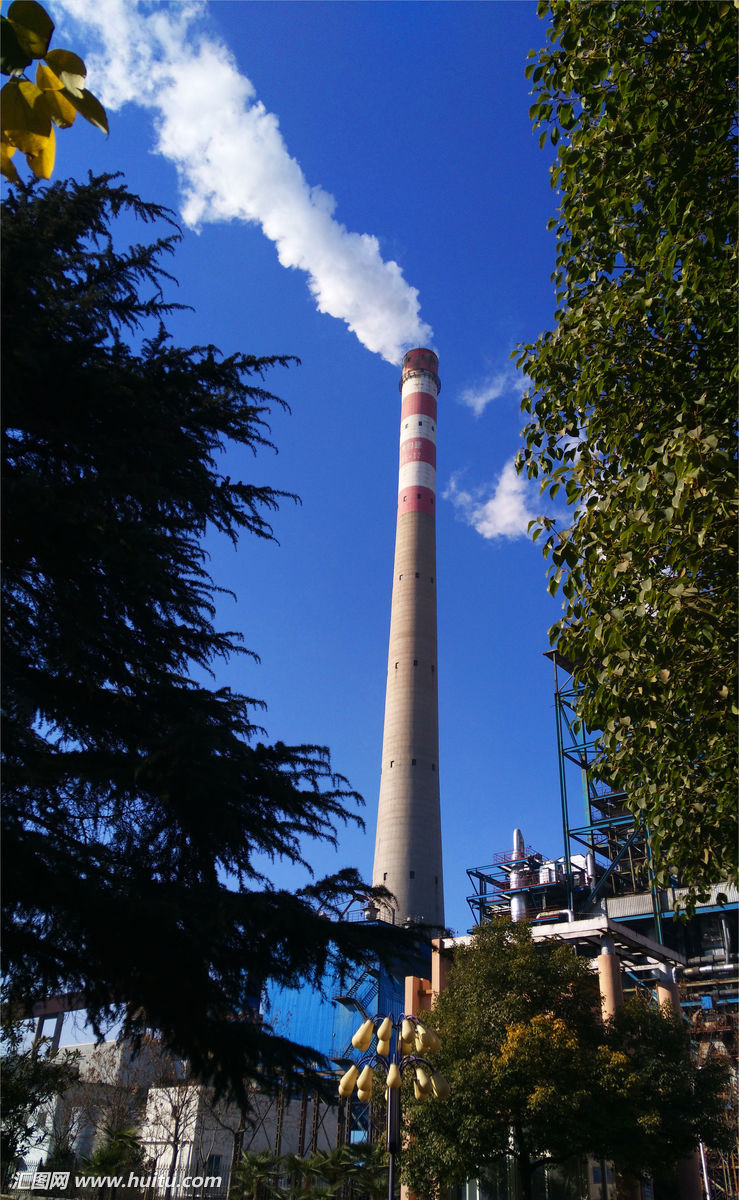dust: (189, 106, 470, 369)
